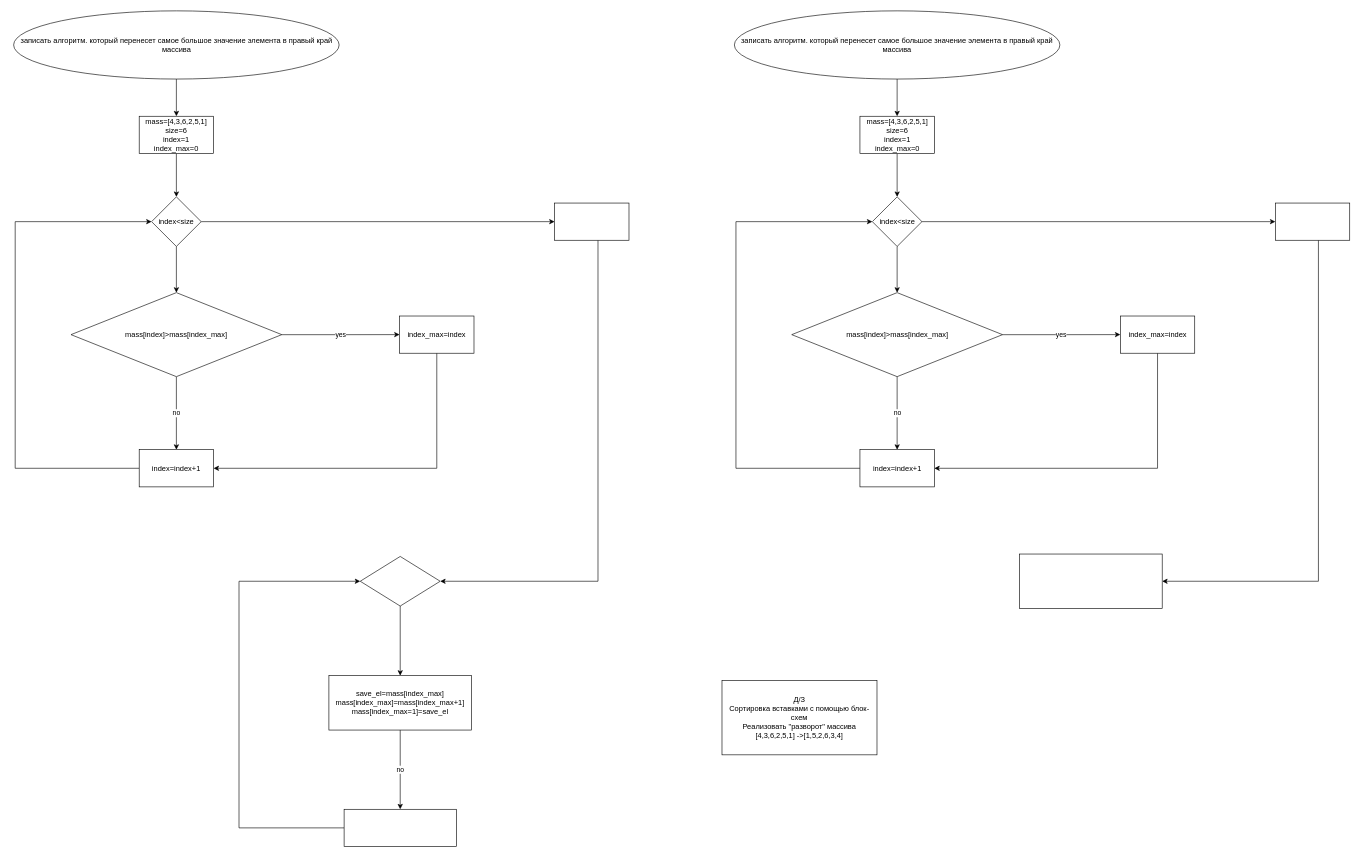
Some shapes in this 1361 by 857 pixel diagram are drawn without their labels. Each missing label, with the centre of its shape:
"index_max<size-1" belongs at point 400,581.
"index_max=index_max+1" belongs at point 399,827.
"save_el=mass[index_max] mass[index_max]=mass[size-1] mass[size-1]=save_el" belongs at point 1090,580.
